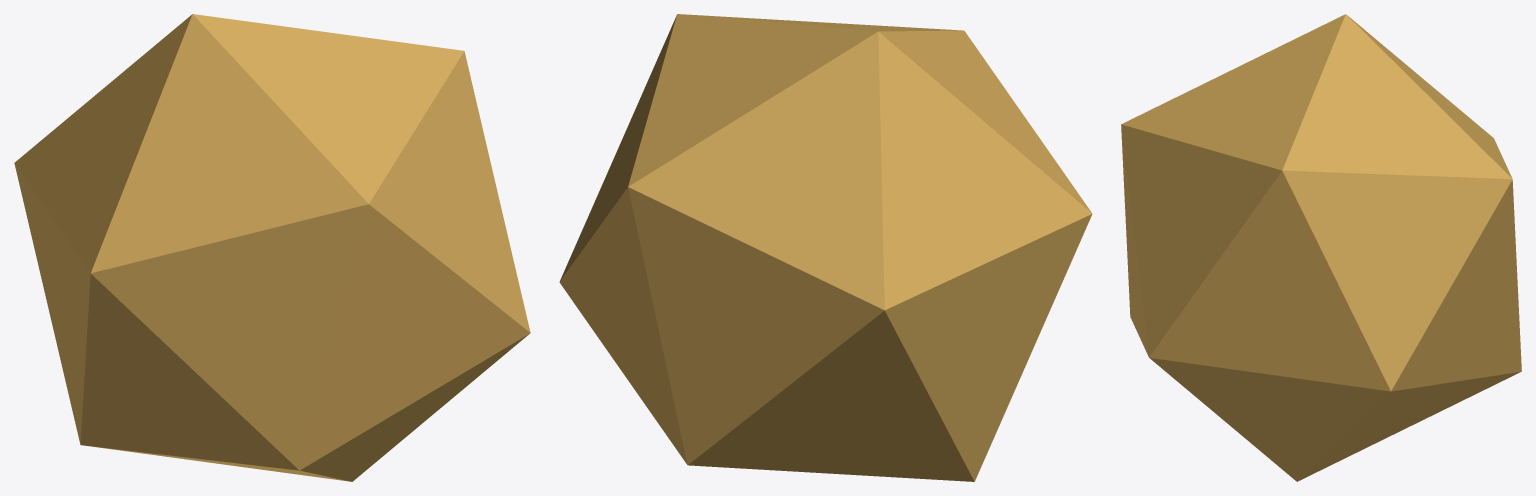
The picture shows the model from 3 angles, left to right: view 1: azimuth 30°, elevation 25°; view 2: azimuth 150°, elevation 25°; view 3: azimuth 270°, elevation 25°; orthographic projection. The views are drawn at different scales.
Parts seen in each view (by area): view 1: Hedra001.004; view 2: Hedra001.004; view 3: Hedra001.004.
Part boxes in pixels (x1=…): Hedra001.004: x1=14, y1=14, x2=530, y2=481; Hedra001.004: x1=559, y1=14, x2=1092, y2=481; Hedra001.004: x1=1121, y1=14, x2=1521, y2=481.
Size of the model in its own units: 65.74 by 67.76 by 59.63.
